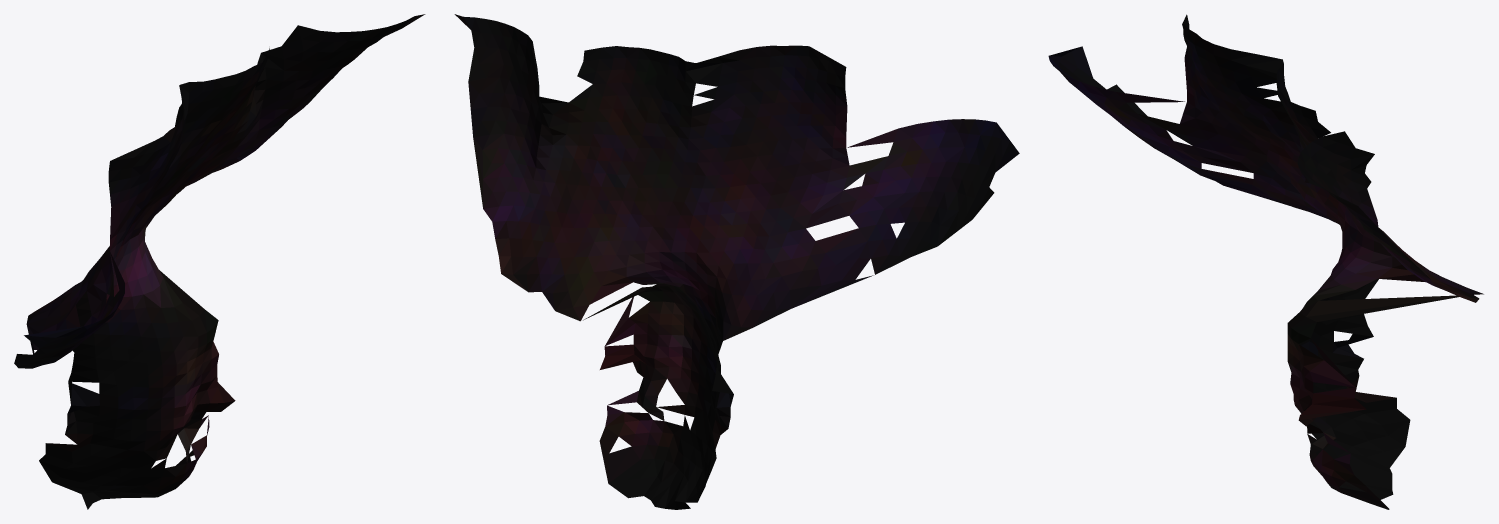
3 renders of one model, left to right at view 1: azimuth 30°, elevation 25°; view 2: azimuth 150°, elevation 25°; view 3: azimuth 270°, elevation 25°, orthographic. The views are drawn at different scales.
Parts seen in each view (by area): view 1: ofMesh; view 2: ofMesh; view 3: ofMesh.
Boxes of the visible parts, box(x1,y1,x2,y2) form: ofMesh: box(14, 14, 425, 509); ofMesh: box(454, 14, 1019, 509); ofMesh: box(1048, 14, 1483, 509).
Bounding box in the file's own units: 480 × 400 × 359.
1 material, 1 textured.
